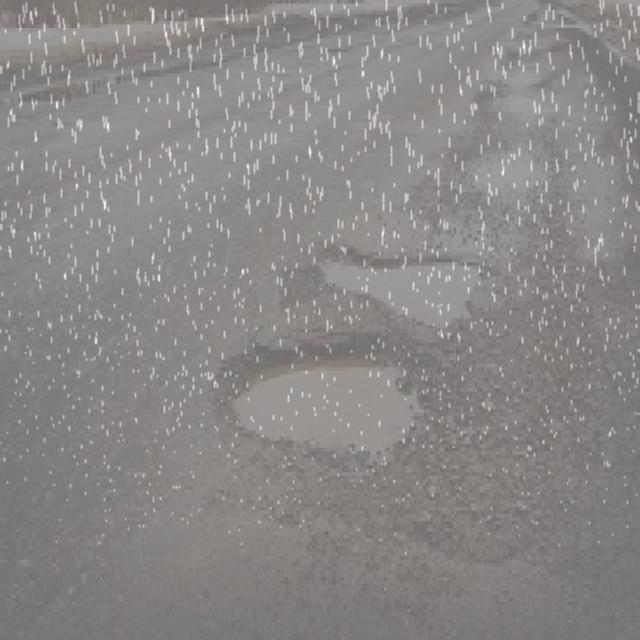Pothole: (192, 335, 446, 498), (294, 232, 479, 337), (465, 38, 563, 219)
